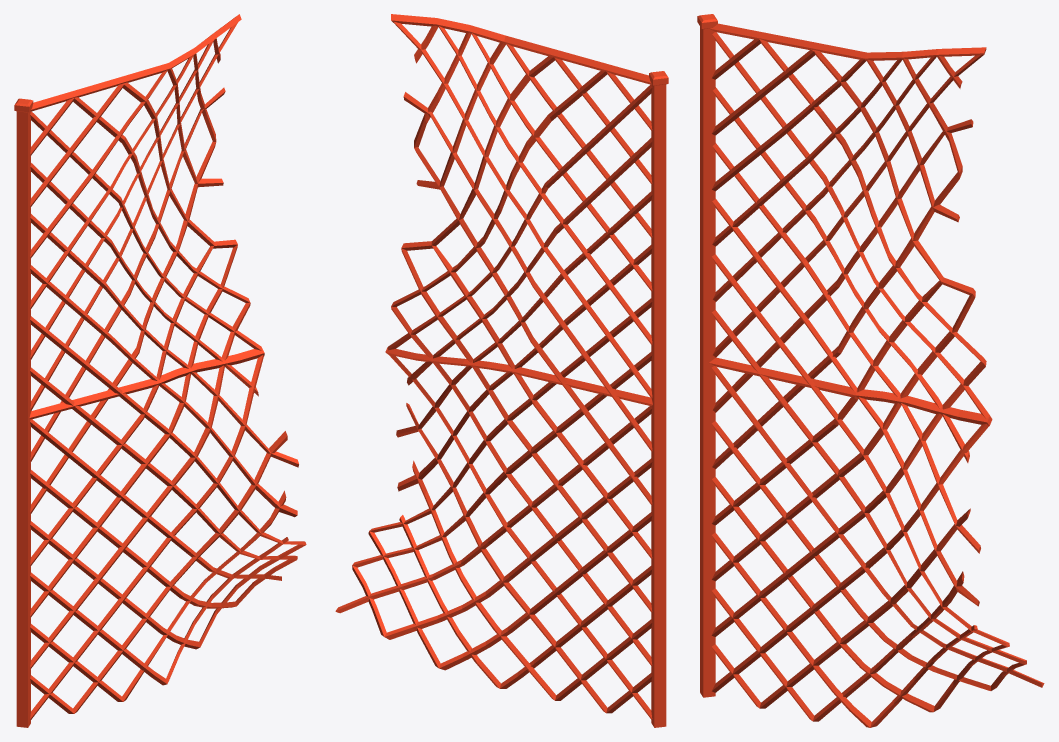
Rendered from SM_Fence_Chainlink_Broken_Tall_2m_City.fbx.
3 renders of one model, left to right at view 1: azimuth 30°, elevation 25°; view 2: azimuth 150°, elevation 25°; view 3: azimuth 330°, elevation 25°, orthographic. The views are drawn at different scales.
Visible parts, largest first — view 1: SM_Fence_Chainlink_Broken_Tall_2m_City; view 2: SM_Fence_Chainlink_Broken_Tall_2m_City; view 3: SM_Fence_Chainlink_Broken_Tall_2m_City.
Part boxes in pixels (box(x1,y1,x2,y2)): SM_Fence_Chainlink_Broken_Tall_2m_City: box(14, 14, 306, 727); SM_Fence_Chainlink_Broken_Tall_2m_City: box(335, 14, 668, 727); SM_Fence_Chainlink_Broken_Tall_2m_City: box(697, 14, 1044, 727).
Bounding box in the file's own units: 1.99 × 4.15 × 0.4868.
